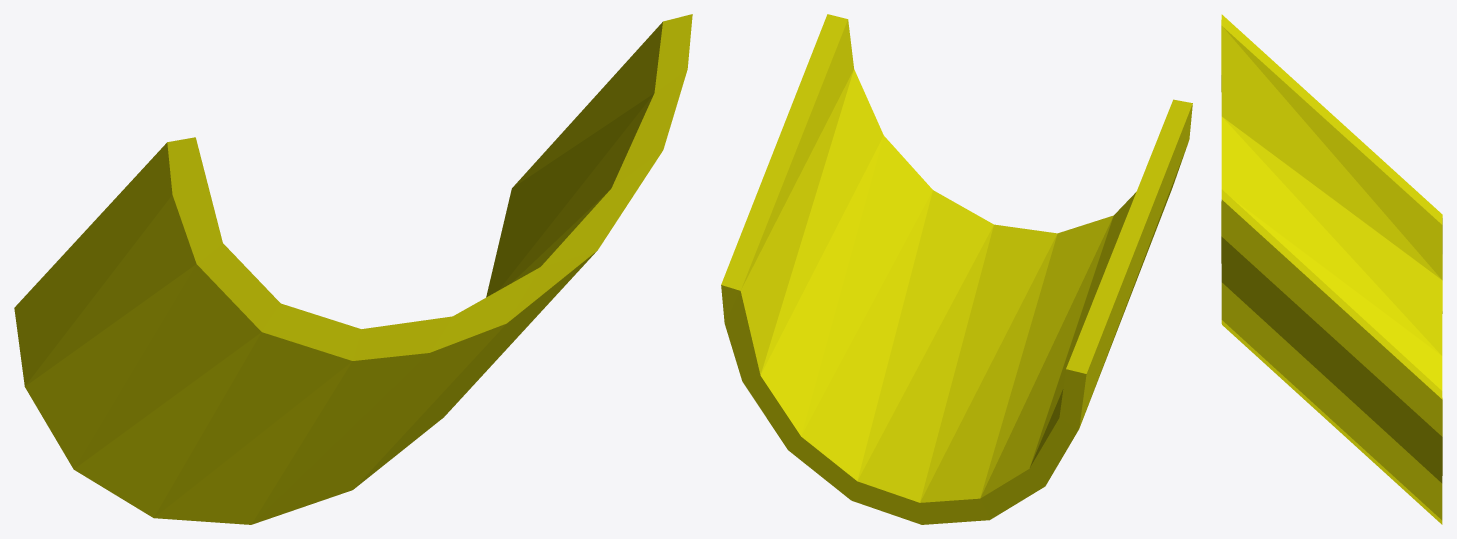
File: pipe incline 1 collision.fbx
3 views of the same model, side by side, from view 1: azimuth 30°, elevation 25°; view 2: azimuth 150°, elevation 25°; view 3: azimuth 270°, elevation 25° (orthographic). The views are drawn at different scales.
Parts seen in each view (by area): view 1: pipe incline 1 collision; view 2: pipe incline 1 collision; view 3: pipe incline 1 collision.
Boxes of the visible parts, x1,y1,x2,y2 form: pipe incline 1 collision: (14,14,692,524); pipe incline 1 collision: (721,14,1192,524); pipe incline 1 collision: (1221,14,1442,524).
Bounding box in the file's own units: 100 × 100 × 50.48.
